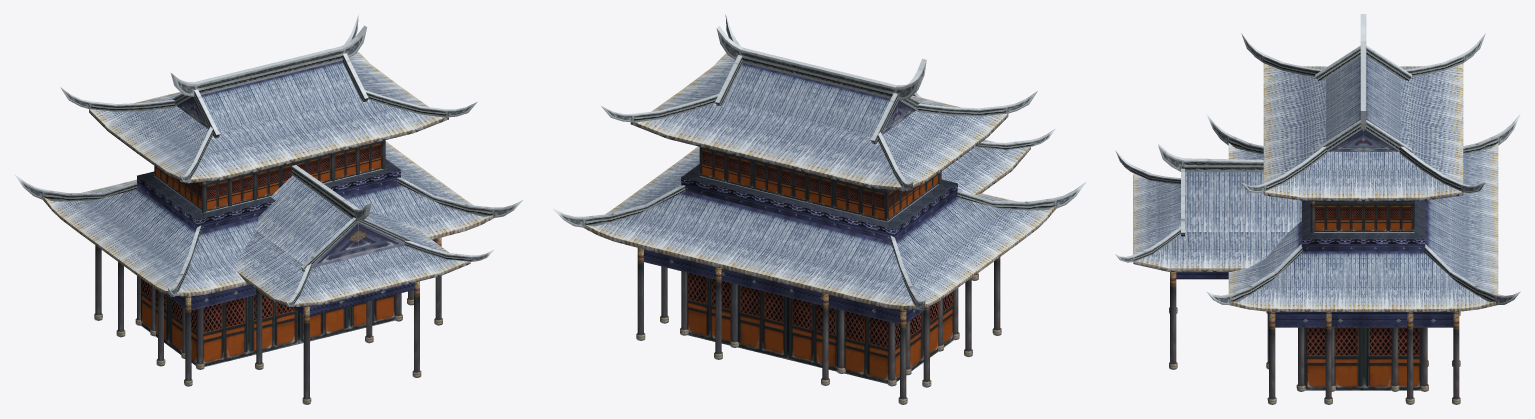
The model's file is jz_louge_07.FBX.
3 views of the same model, side by side, from view 1: azimuth 30°, elevation 25°; view 2: azimuth 150°, elevation 25°; view 3: azimuth 270°, elevation 25° (orthographic). The views are drawn at different scales.
Visible parts, largest first — view 1: jz_louge_07; view 2: jz_louge_07; view 3: jz_louge_07.
Boxes of the visible parts, left/top/right/bottom form: jz_louge_07: left=14, top=14, right=522, bottom=404; jz_louge_07: left=553, top=14, right=1085, bottom=404; jz_louge_07: left=1115, top=14, right=1520, bottom=404.
Size of the model in its own units: 2850 by 2080 by 2745.
